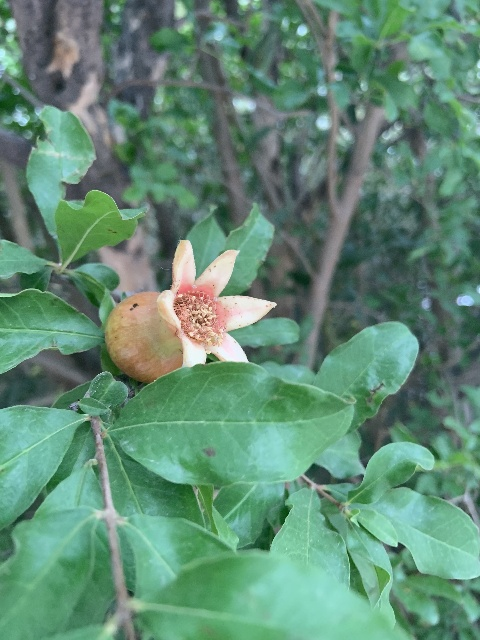early-fruit: (105, 238, 274, 382)
